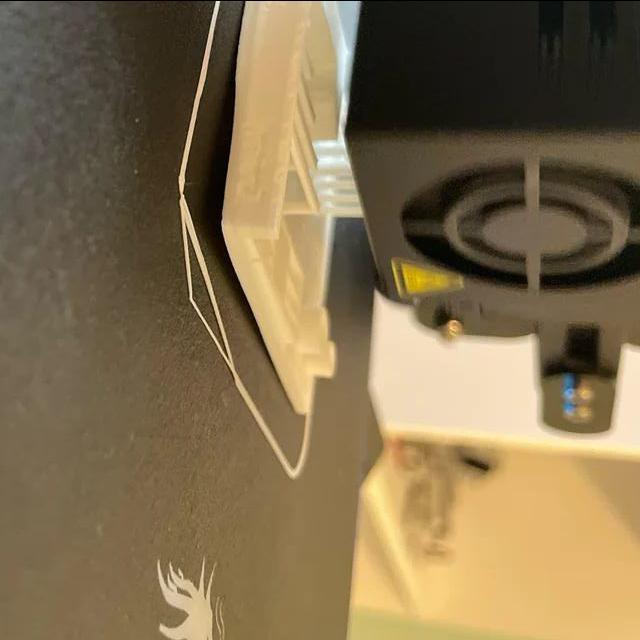Warping: (209, 79, 251, 221)
